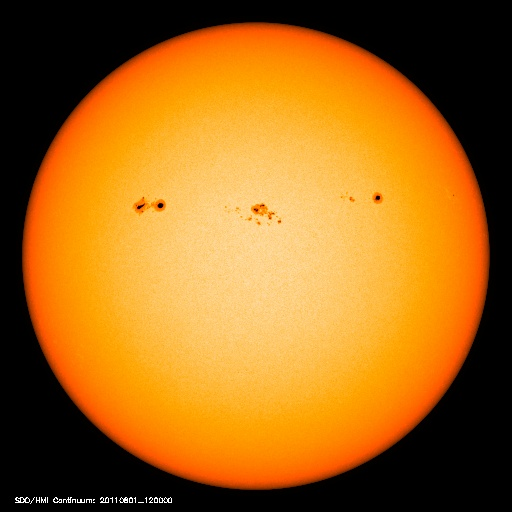sunspot: (218, 195, 285, 233), (329, 181, 387, 217), (123, 189, 174, 222)
